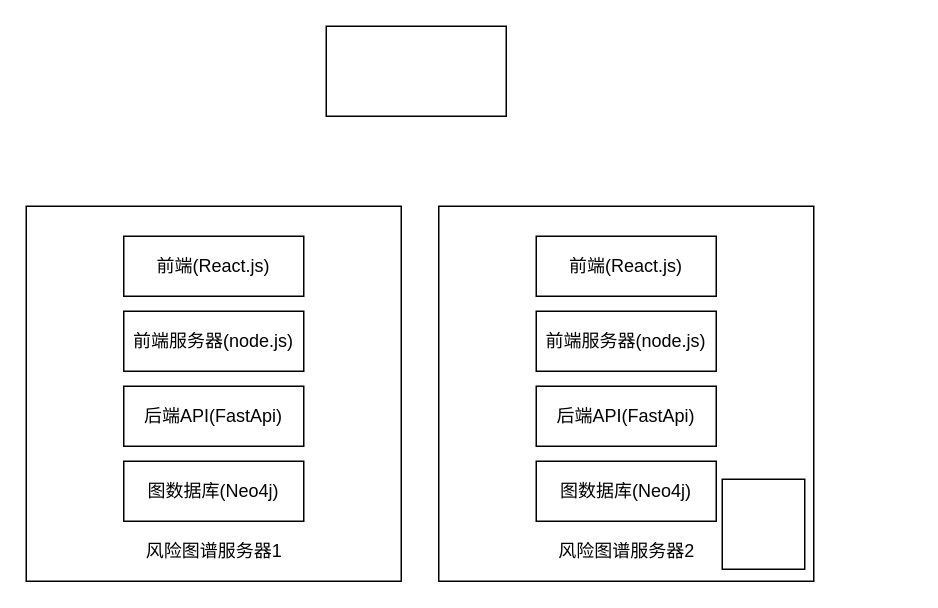
Image size: 938x608. Some labels were removed from this diagram. The shapes that lost their labels are listed below. From the top down, each one's box as (x1, y1, x2, y2) in pixels, then its label:
(325, 25, 506, 116): 高可用/负载均衡 (Nginx)
(721, 478, 805, 569): 核心镜像 (Oracle)
